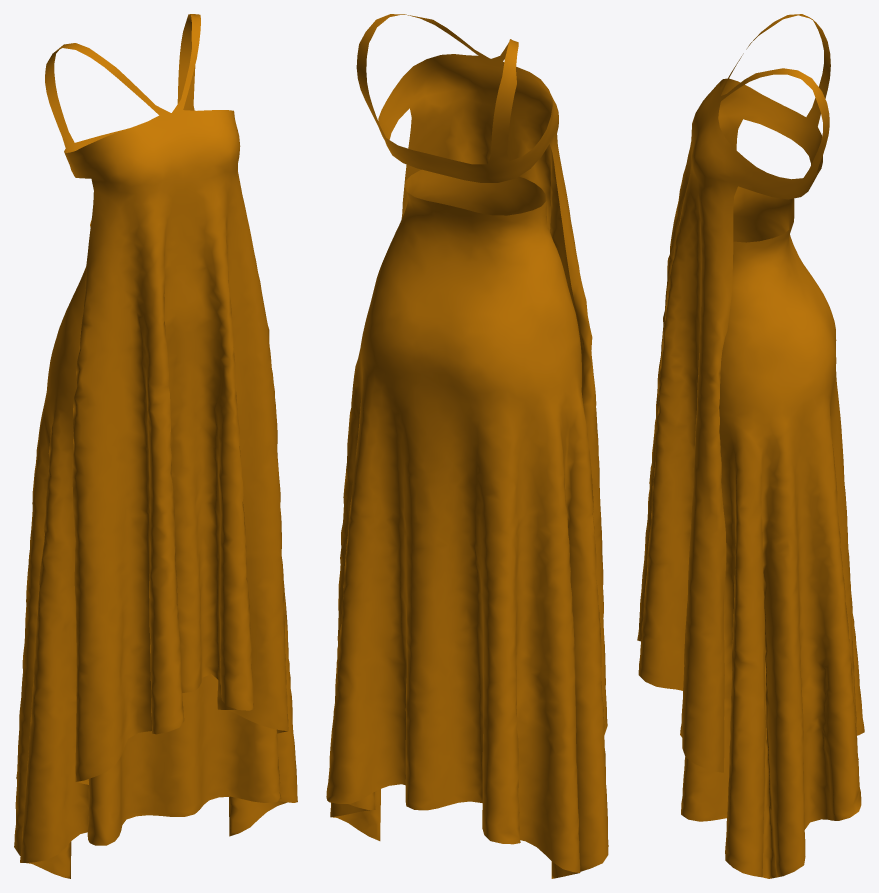
The model's file is evening_dress.glb.
3 views of the same model, side by side, from view 1: azimuth 30°, elevation 25°; view 2: azimuth 150°, elevation 25°; view 3: azimuth 270°, elevation 25° (orthographic). The views are drawn at different scales.
Parts seen in each view (by area): view 1: evening_dress; view 2: evening_dress; view 3: evening_dress.
Boxes of the visible parts, x1=… form: evening_dress: x1=14, y1=14, x2=297, y2=878; evening_dress: x1=326, y1=14, x2=608, y2=878; evening_dress: x1=637, y1=14, x2=864, y2=878.
Size of the model in its own units: 0.5185 by 1.52 by 0.3923.
